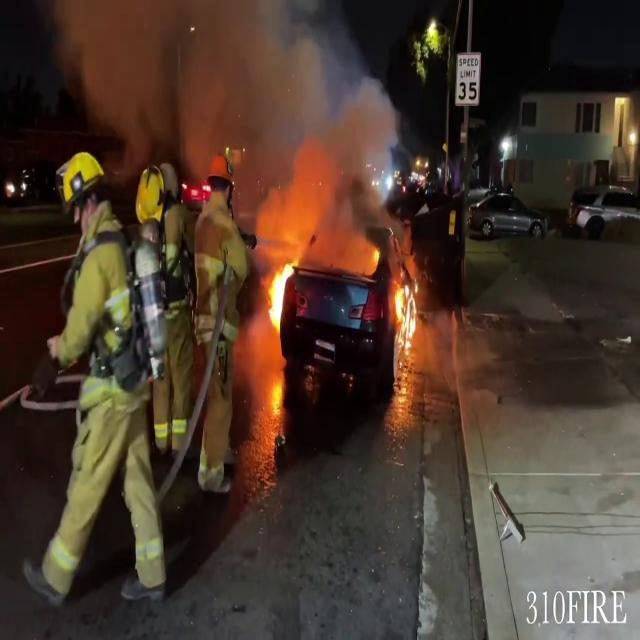Fire: (390, 270, 422, 360), (264, 252, 294, 334)
Smoke: (74, 0, 398, 245)
